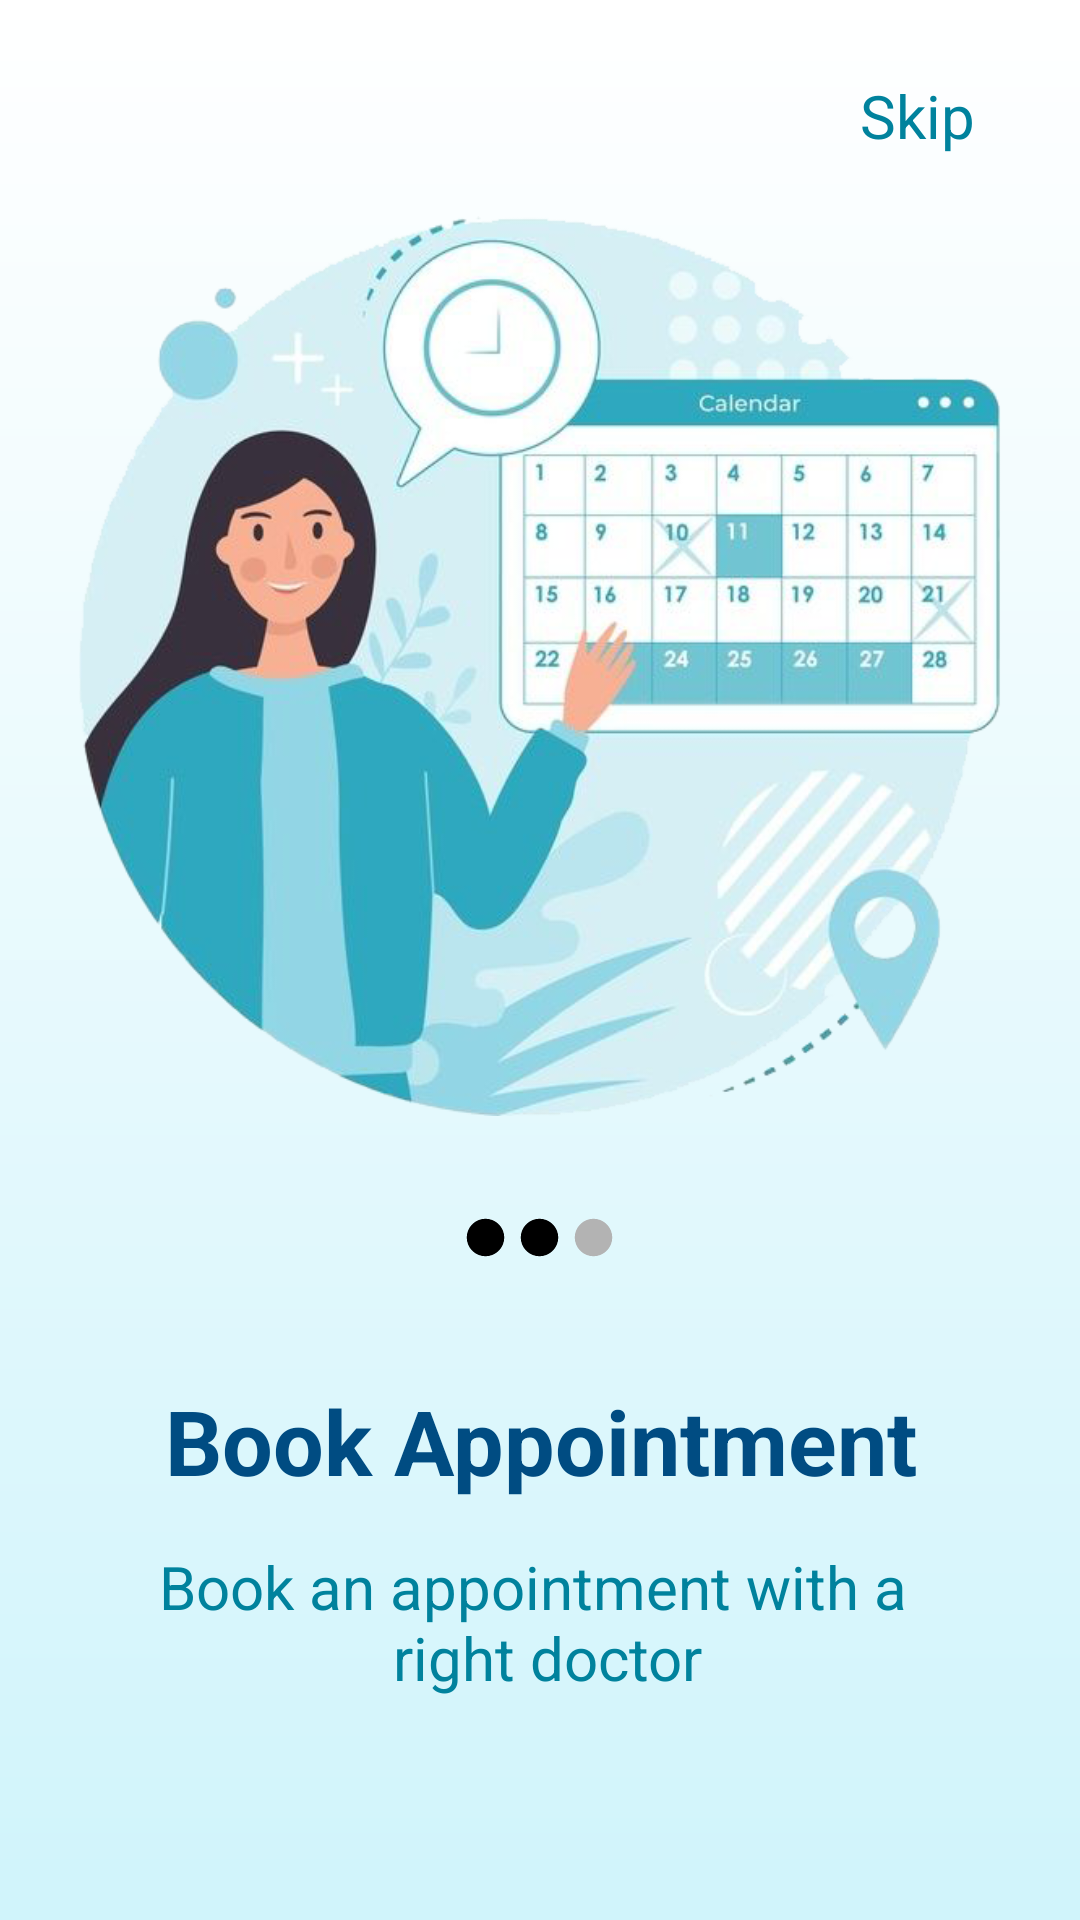

Icons on this 1080px×1920px Android screen, each with its box as (x1, y1, x2, y2):
dot: (466, 1218, 505, 1257), (520, 1218, 559, 1257), (575, 1219, 612, 1256)
